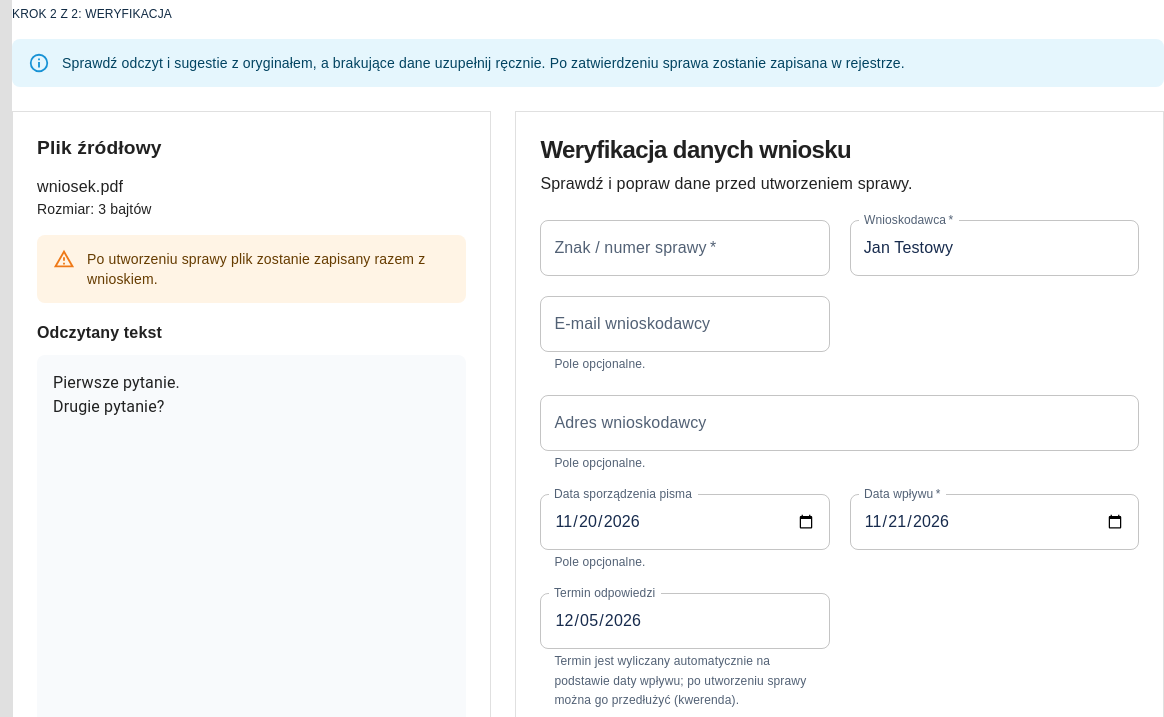
Test case: request verification › 409 with SEQUENCE_NUMBER_TAKEN shows the sequence number message
The image size is (1164, 717).
Type "A/1" into the field labelled "Znak / numer sprawy *" at (685, 248), box [540,220,830,276]
(page scrolled)
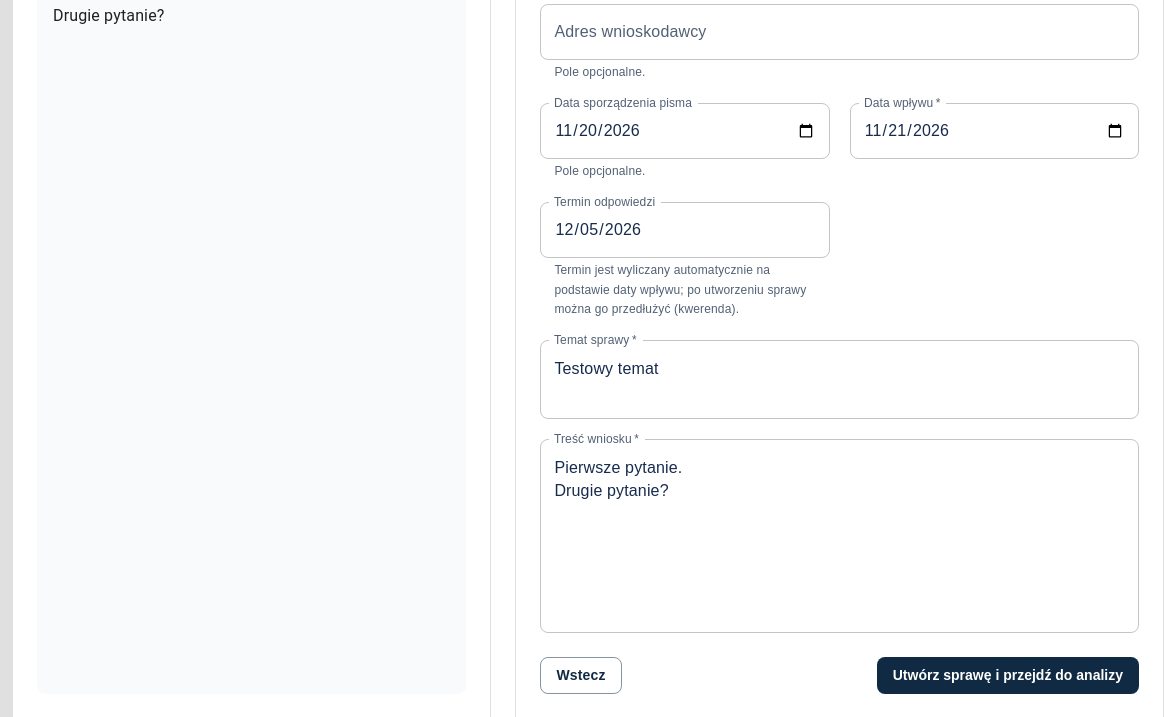
Click the button "Utwórz sprawę i przejdź do analizy" at (1008, 676), box [877,657,1139,694]
(page scrolled)
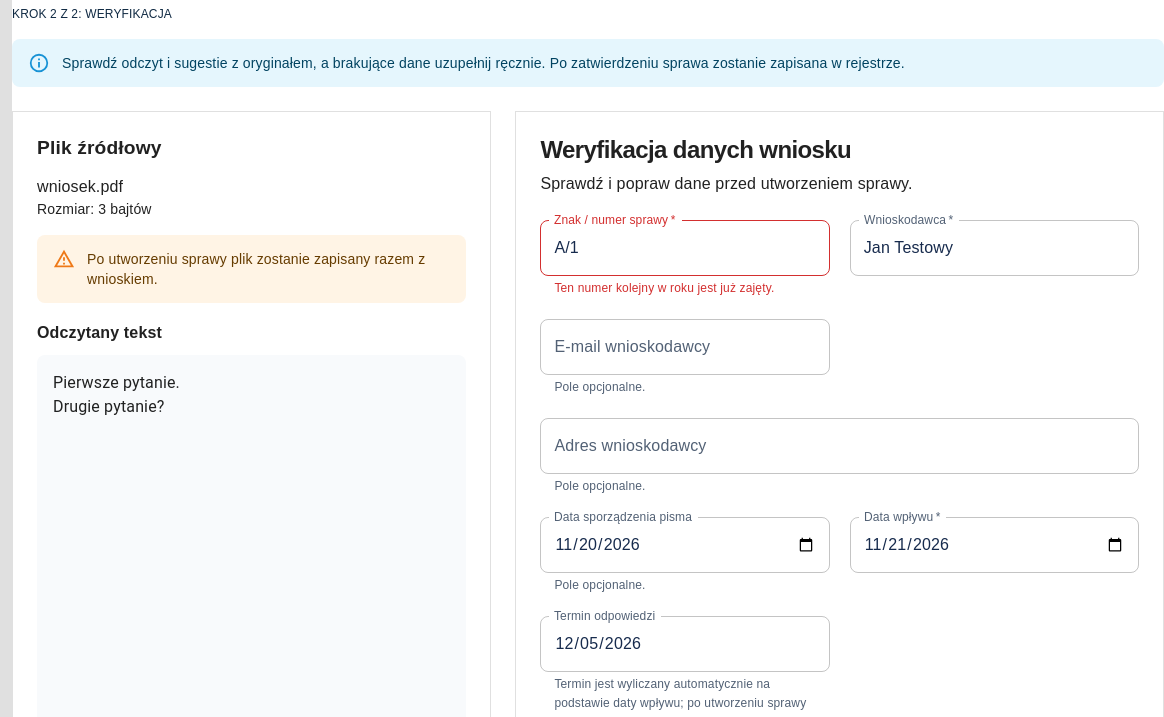
expect the text "Ten numer kolejny w roku jest już zajęty." is shown: met, box [554,281,774,295]
